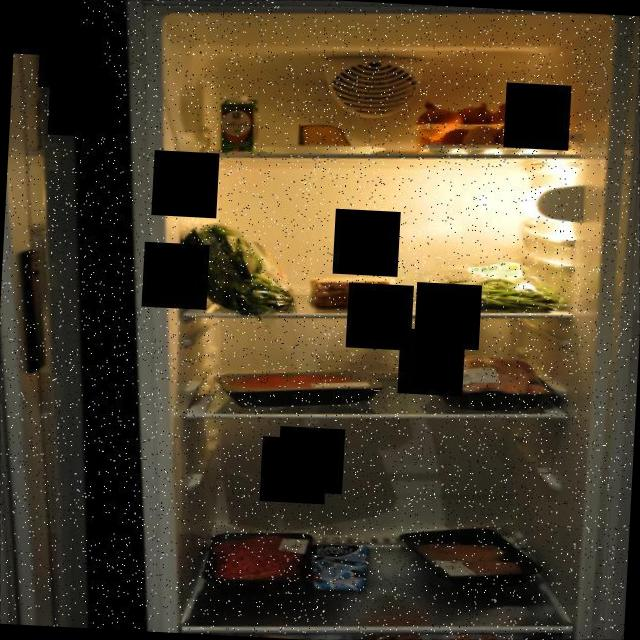Carne pollo: (390, 518, 548, 598), (416, 342, 556, 422)
Carne vacuno: (208, 360, 390, 417)
Cebolla: (410, 94, 538, 159)
Huevos: (438, 117, 544, 159)
Queso: (296, 119, 356, 157)
